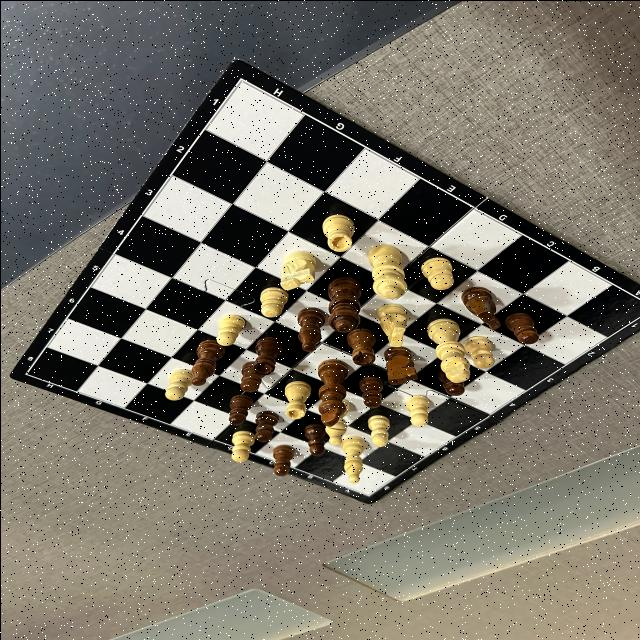Black-Bishop: (192, 339, 223, 387), (296, 306, 324, 351)
Black-King: (316, 358, 348, 426)
Black-Knight: (460, 286, 500, 330), (384, 346, 416, 386)
Black-Pawn: (503, 312, 538, 344), (227, 394, 253, 425), (358, 376, 383, 408), (436, 368, 464, 396), (254, 410, 278, 442), (303, 424, 325, 456), (272, 444, 292, 476), (240, 361, 260, 391)
Black-Queen: (327, 276, 363, 332)
Black-Rook: (344, 326, 376, 364), (253, 336, 283, 374)
White-Bishop: (341, 436, 364, 482), (324, 401, 348, 443)
White-King: (426, 318, 469, 382)
White-Knight: (280, 250, 316, 290), (376, 303, 406, 346)
White-Pawn: (419, 257, 454, 289), (164, 368, 194, 400), (465, 336, 494, 368), (216, 314, 244, 346), (260, 286, 288, 316), (230, 430, 254, 461), (366, 414, 388, 446), (405, 395, 428, 425)
White-Queen: (366, 244, 406, 298)
White-Rook: (322, 213, 354, 251), (283, 381, 311, 418)
